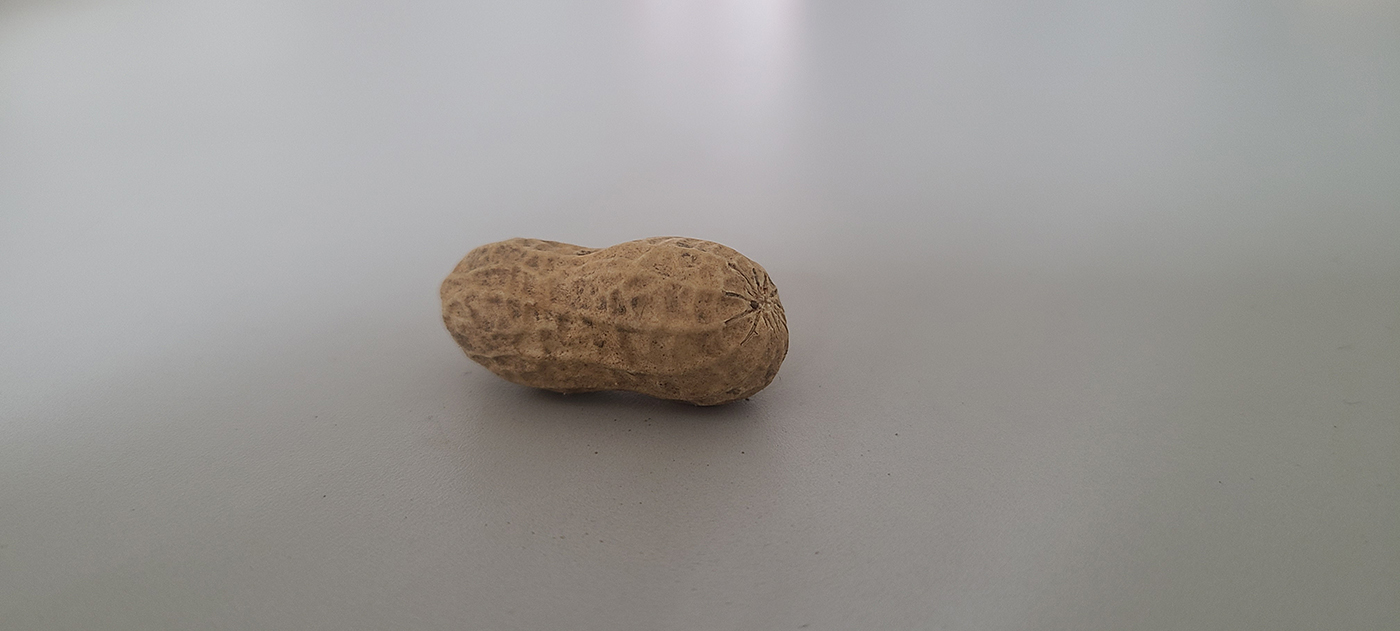h: (436, 232, 793, 407)
